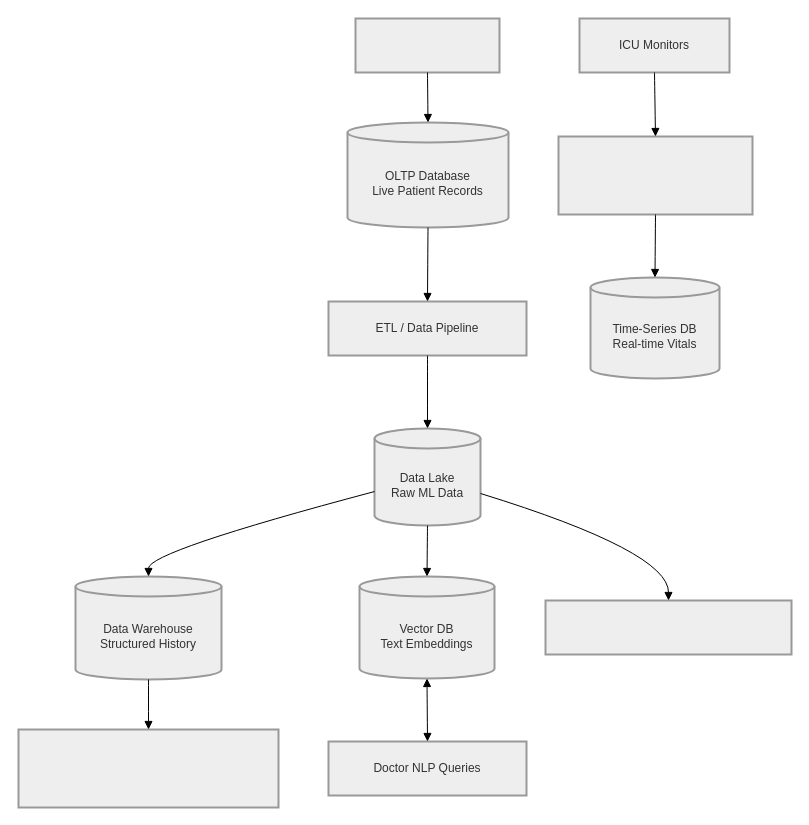
Some shapes in this 809 by 825 pixel diagram are drawn without their labels. The shapes that lost their labels are listed below. From the top down, each one's centre as x and y in pixels, then its label:
At (x=427, y=45): "EHR System".
At (x=655, y=175): "Streaming Pipeline Kafka/Kinesis".
At (x=668, y=627): "Readmission Risk AI Model".
At (x=148, y=768): "Monthly Management Reports".
